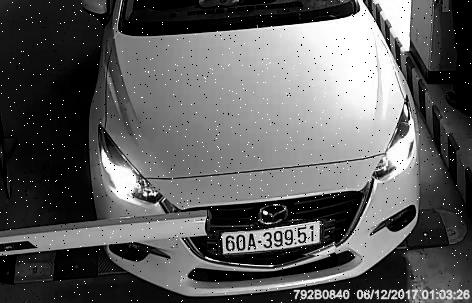License-plate: (209, 221, 338, 258)
